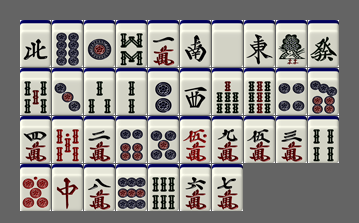0m: (180, 116, 211, 163)
0p: (20, 164, 51, 211)
0s: (52, 116, 83, 163)
1m: (148, 20, 179, 67)
1p: (84, 20, 115, 67)
1s: (276, 20, 307, 67)
1z: (244, 20, 275, 67)
2m: (84, 116, 115, 163)
2p: (148, 68, 179, 115)
2s: (116, 68, 147, 115)
2z: (180, 20, 211, 67)
3m: (276, 116, 307, 163)
3p: (52, 68, 83, 115)
3s: (84, 68, 115, 115)
3z: (180, 68, 211, 115)
4m: (20, 116, 51, 163)
4p: (276, 68, 307, 115)
4s: (308, 116, 339, 163)
4z: (20, 20, 51, 67)
5m: (244, 116, 275, 163)
5p: (148, 116, 179, 163)
5s: (20, 68, 51, 115)
5z: (212, 20, 243, 67)
6m: (180, 164, 211, 211)
6p: (116, 116, 147, 163)
6s: (148, 164, 179, 211)
6z: (308, 20, 339, 67)
7m: (212, 164, 243, 211)
7p: (308, 68, 339, 115)
7s: (212, 68, 243, 115)
7z: (52, 164, 83, 211)
8m: (84, 164, 115, 211)
8p: (52, 20, 83, 67)
8s: (116, 20, 147, 67)
9m: (212, 116, 243, 163)
9p: (116, 164, 147, 211)
9s: (244, 68, 275, 115)
